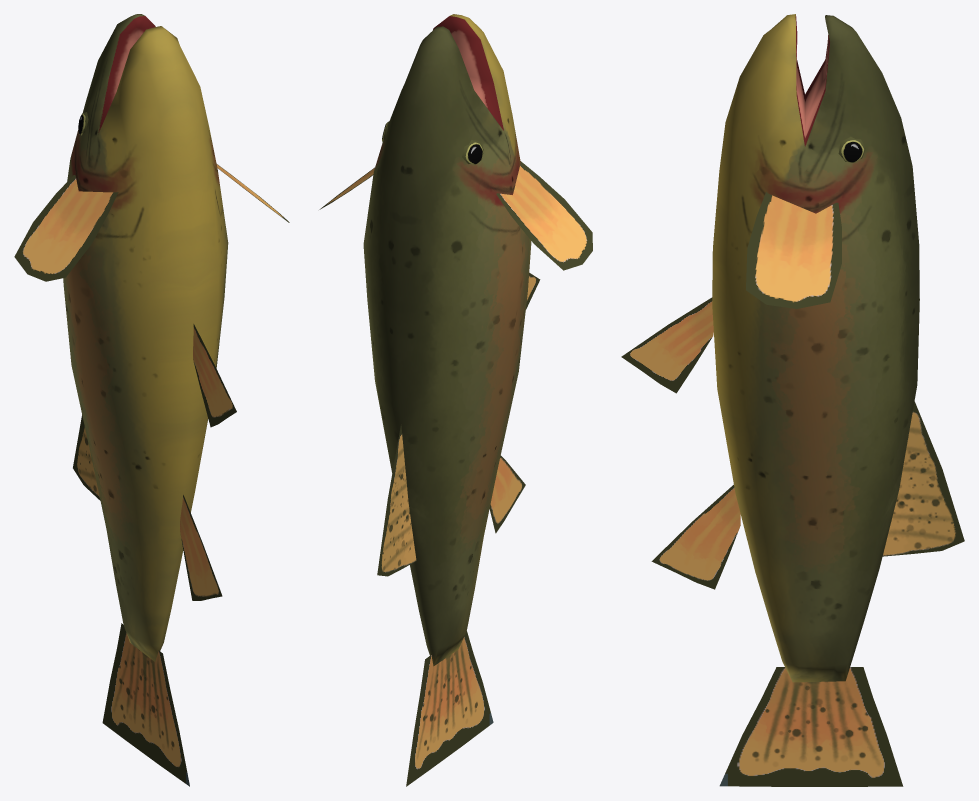
The model's file is SM_Trout_01.FBX.
The picture shows the model from 3 angles, left to right: view 1: azimuth 30°, elevation 25°; view 2: azimuth 150°, elevation 25°; view 3: azimuth 270°, elevation 25°; orthographic projection. The views are drawn at different scales.
Parts seen in each view (by area): view 1: SM_Trout_01; view 2: SM_Trout_01; view 3: SM_Trout_01.
Boxes of the visible parts, x1,y1,x2,y2 form: SM_Trout_01: (14, 14, 289, 786); SM_Trout_01: (319, 14, 592, 786); SM_Trout_01: (621, 14, 964, 786).
Size of what is drawn, in the model's own units: 14.51 by 16.36 by 40.46.
